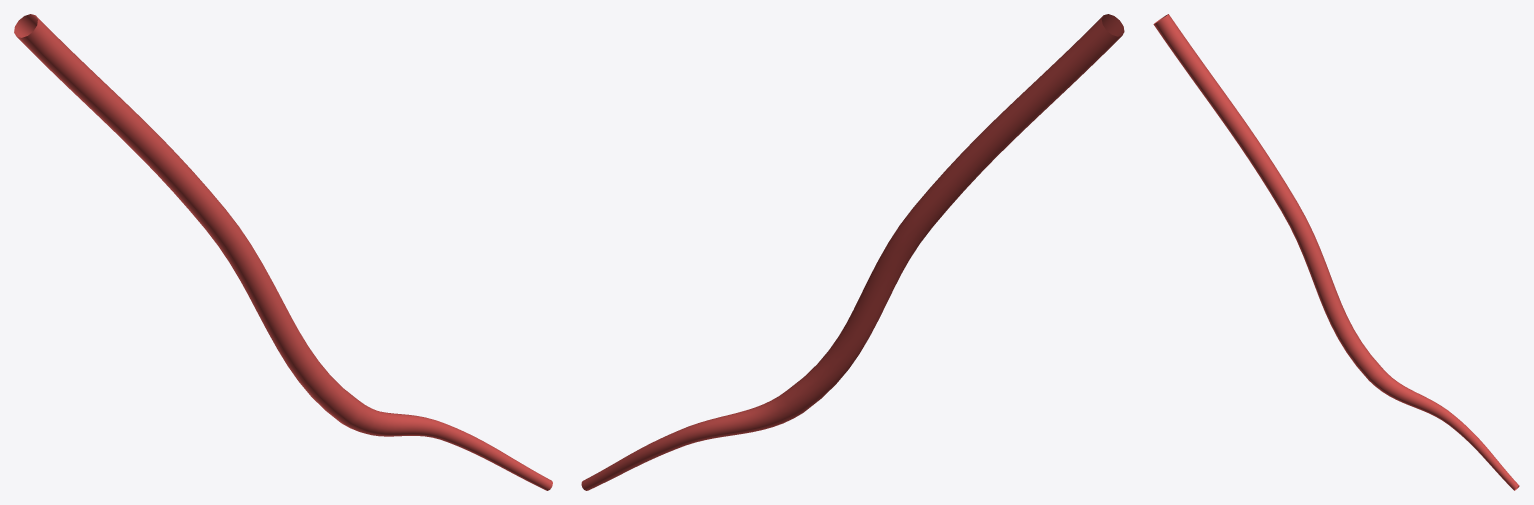
The picture shows the model from 3 angles, left to right: view 1: azimuth 30°, elevation 25°; view 2: azimuth 150°, elevation 25°; view 3: azimuth 330°, elevation 25°; orthographic projection. The views are drawn at different scales.
Visible parts, largest first — view 1: 右侧上唇动脉; view 2: 右侧上唇动脉; view 3: 右侧上唇动脉.
Part boxes in pixels (x1=…): 右侧上唇动脉: x1=14, y1=14, x2=552, y2=490; 右侧上唇动脉: x1=581, y1=14, x2=1124, y2=490; 右侧上唇动脉: x1=1153, y1=14, x2=1519, y2=490.
Bounding box in the file's own units: 0.0323 × 0.0345 × 0.00273.
